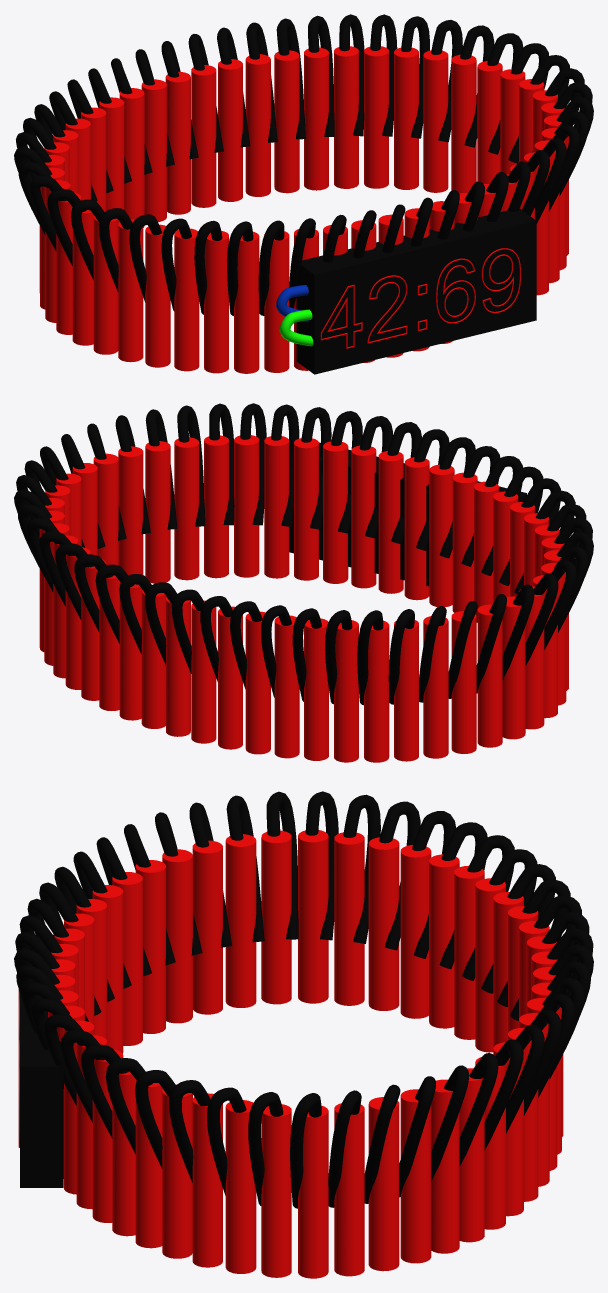
File: SM_Explosives.fbx
3 renders of one model, top to bottom at view 1: azimuth 30°, elevation 25°; view 2: azimuth 150°, elevation 25°; view 3: azimuth 270°, elevation 25°, orthographic. The views are drawn at different scales.
Visible parts, largest first — view 1: Cylinder040; view 2: Cylinder040; view 3: Cylinder040.
Part boxes in pixels (x1,y1,x2,y2): Cylinder040: (14,14,593,374); Cylinder040: (14,403,593,762); Cylinder040: (14,791,593,1278).
Size of the model in its own units: 78.45 by 22.24 by 61.28.
